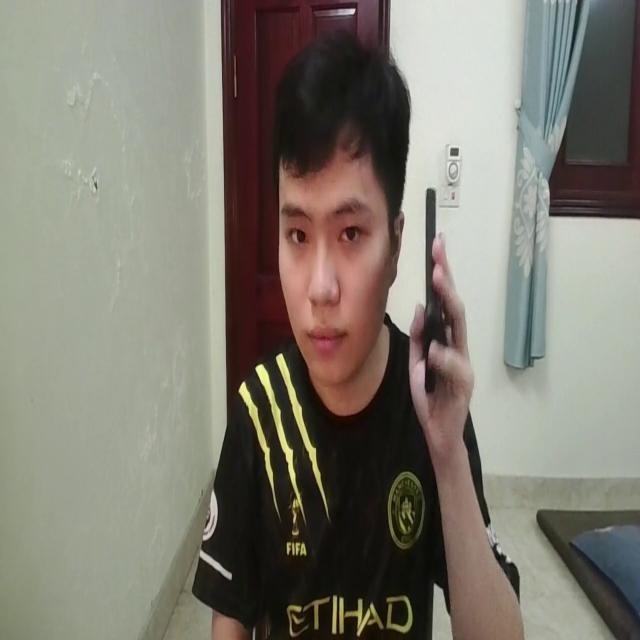phone: (414, 176, 454, 409)
student: (176, 24, 524, 640)
